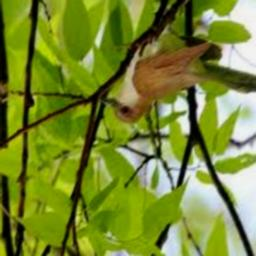Cuckoo: (101, 37, 256, 124)
